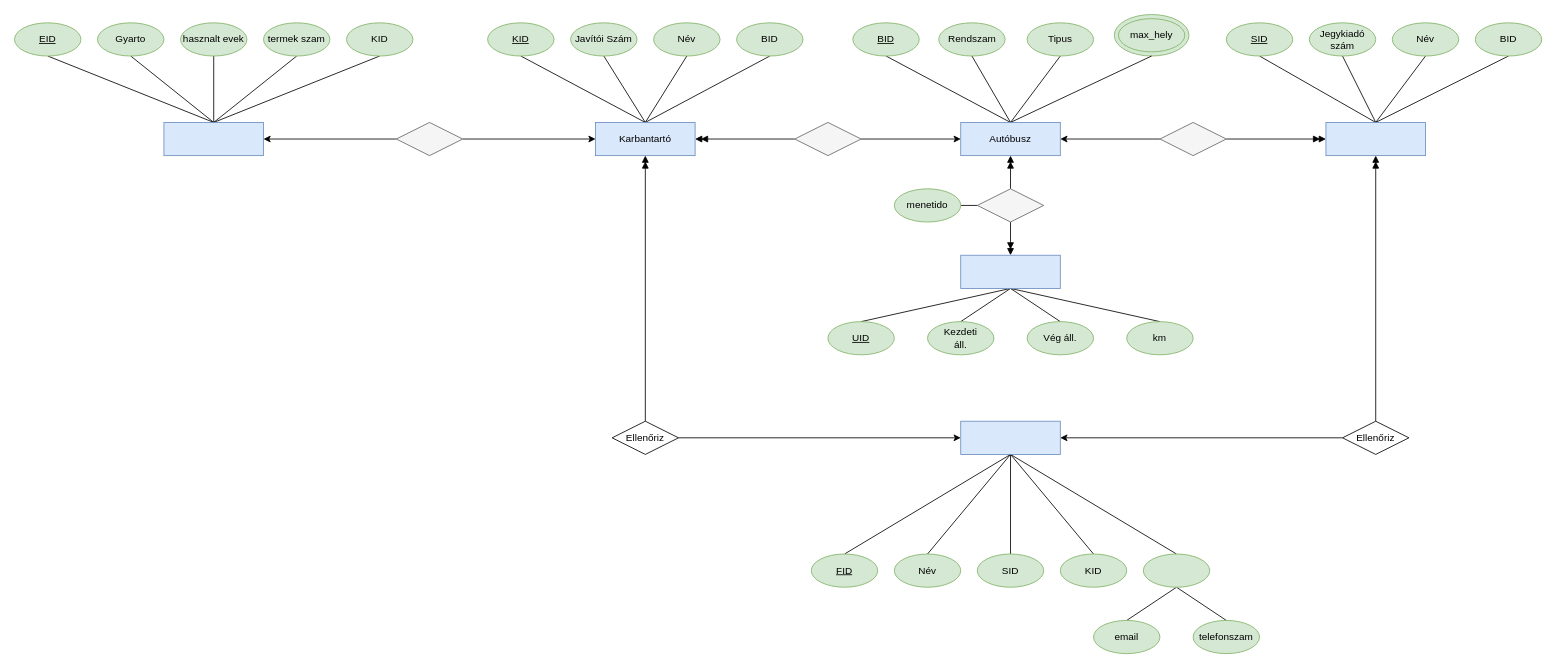
Some shapes in this 1556 by 668 pixel diagram are drawn without their labels. The centre of each missing label's shape, as x and y in pixels:
"elerhetoseg" belongs at (x=1176, y=570).
"Felügyelő" belongs at (x=1010, y=437).
"halad" belongs at (x=1010, y=205).
"hasznal" belongs at (x=429, y=139).
"karbantart" belongs at (x=827, y=139).
"Karbantarto felsz." belongs at (x=213, y=139).
"Sofőr" belongs at (x=1375, y=139).
"Vezet" belongs at (x=1192, y=139).
"Útvonal" belongs at (x=1010, y=271).
